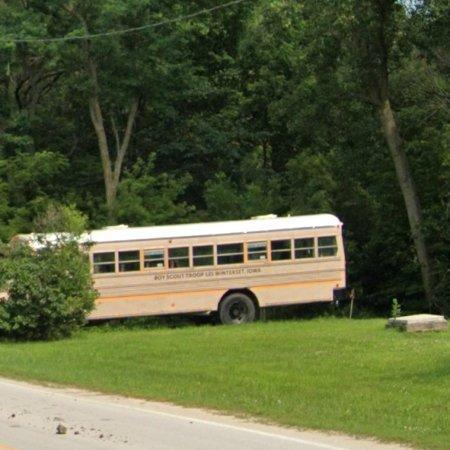buses: (77, 214, 346, 324)
